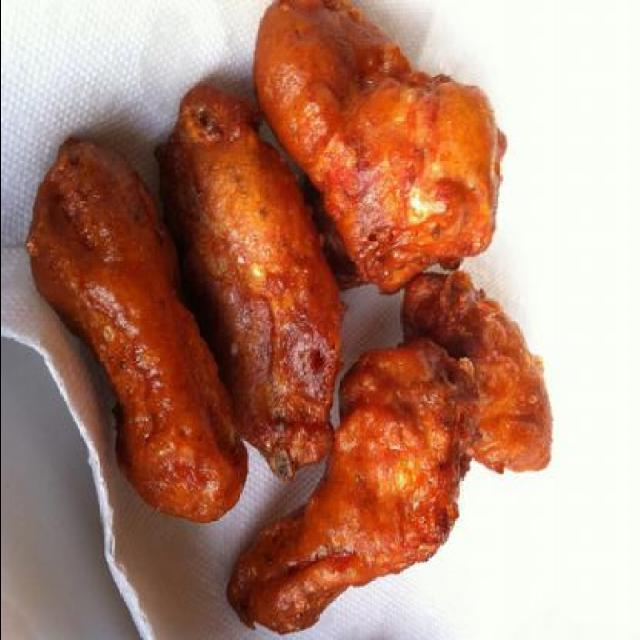Deep fried chicken wing: (39, 15, 556, 633)
